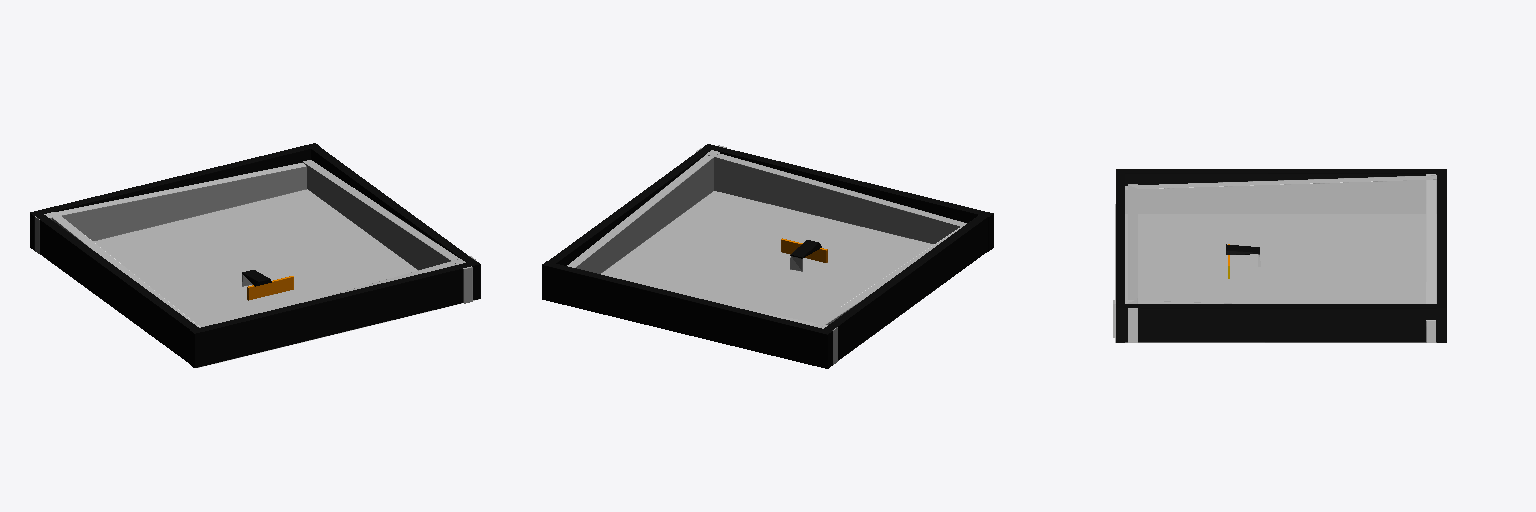
3 views of the same model, side by side, from view 1: azimuth 30°, elevation 25°; view 2: azimuth 150°, elevation 25°; view 3: azimuth 270°, elevation 25° (orthographic).
Visible parts, largest first — view 1: level:pPlaneShape2; view 2: level:pPlaneShape2; view 3: level:pPlaneShape2.
Boxes of the visible parts, box(x1,y1,x2,y2) form: level:pPlaneShape2: box(30, 143, 480, 367); level:pPlaneShape2: box(542, 144, 993, 368); level:pPlaneShape2: box(1113, 169, 1446, 342).
Size of the model in its own units: 23.91 by 2.76 by 24.07.
1 materials, 1 textured.